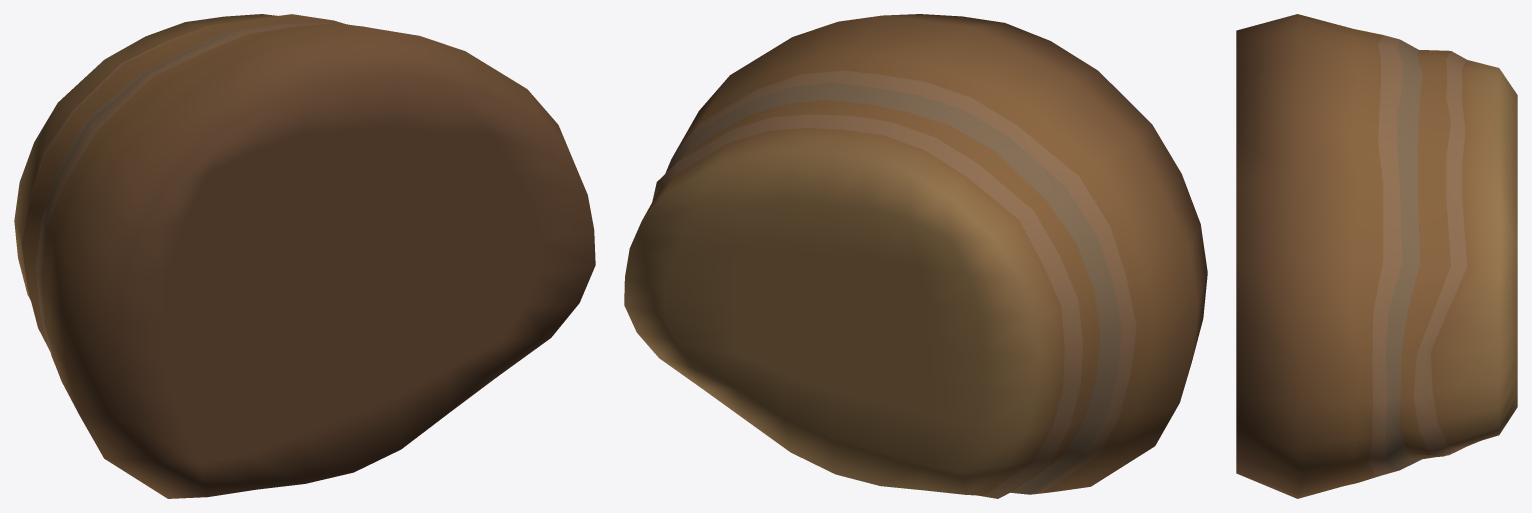
File: SandstoneRockTiny.002.glb
3 renders of one model, left to right at view 1: azimuth 30°, elevation 25°; view 2: azimuth 150°, elevation 25°; view 3: azimuth 270°, elevation 25°, orthographic.
Visible parts, largest first — view 1: SandstoneRockTiny.002; view 2: SandstoneRockTiny.002; view 3: SandstoneRockTiny.002.
Boxes of the visible parts, x1=… form: SandstoneRockTiny.002: x1=14, y1=14, x2=595, y2=498; SandstoneRockTiny.002: x1=624, y1=14, x2=1207, y2=498; SandstoneRockTiny.002: x1=1236, y1=14, x2=1517, y2=498.
Size of the model in its own units: 3915 by 3135 by 1849.
